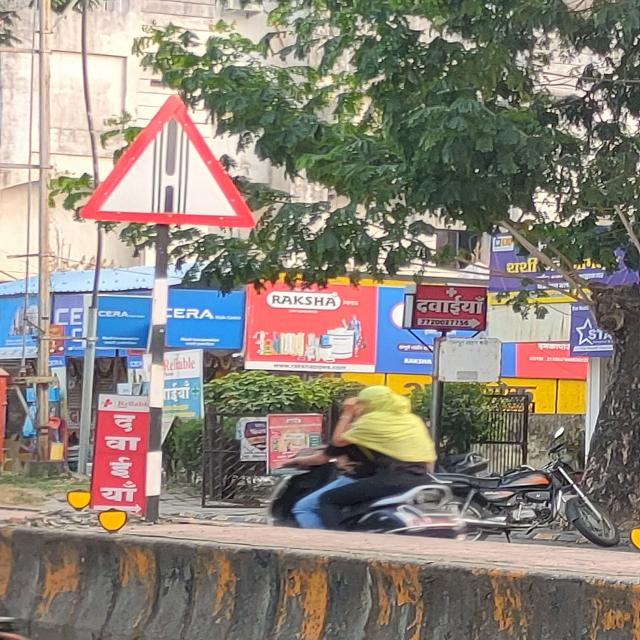ferry: (78, 94, 254, 228)
